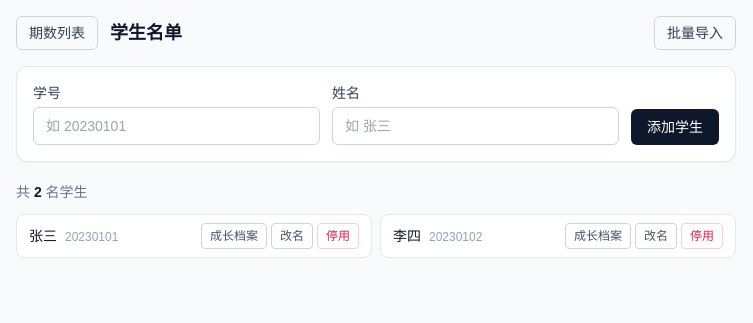
Scenario: StudentsPage › deactivates a student after confirmation
This screenshot has width=753, height=323.
Expected: the text "李四" is shown, [393,228,421,244]
Step 1. Click the button "停用" in the row of "李四" → (702, 236), box [681,223,723,249]
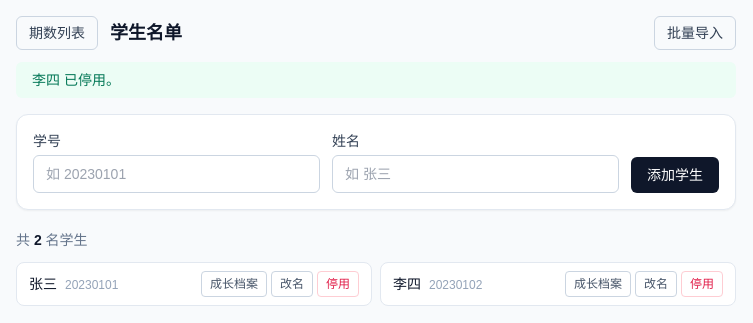
Now the text "李四 已停用。" is shown, box [16,62,736,98]
